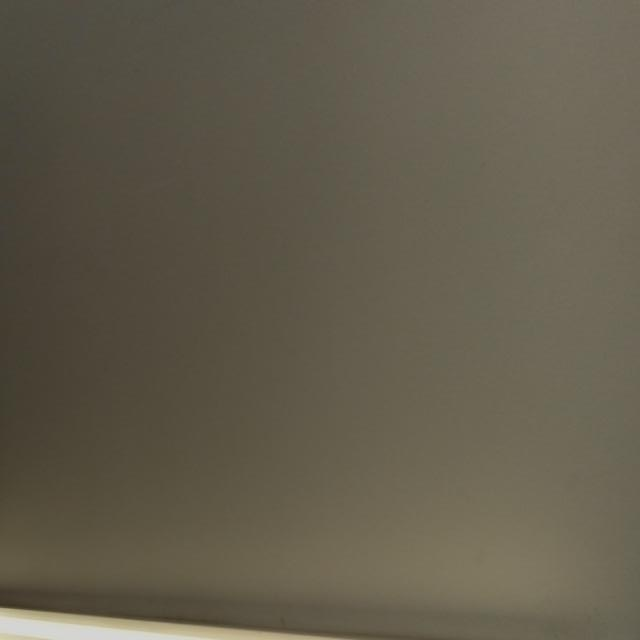fluorescent tube: (0, 584, 640, 640)
